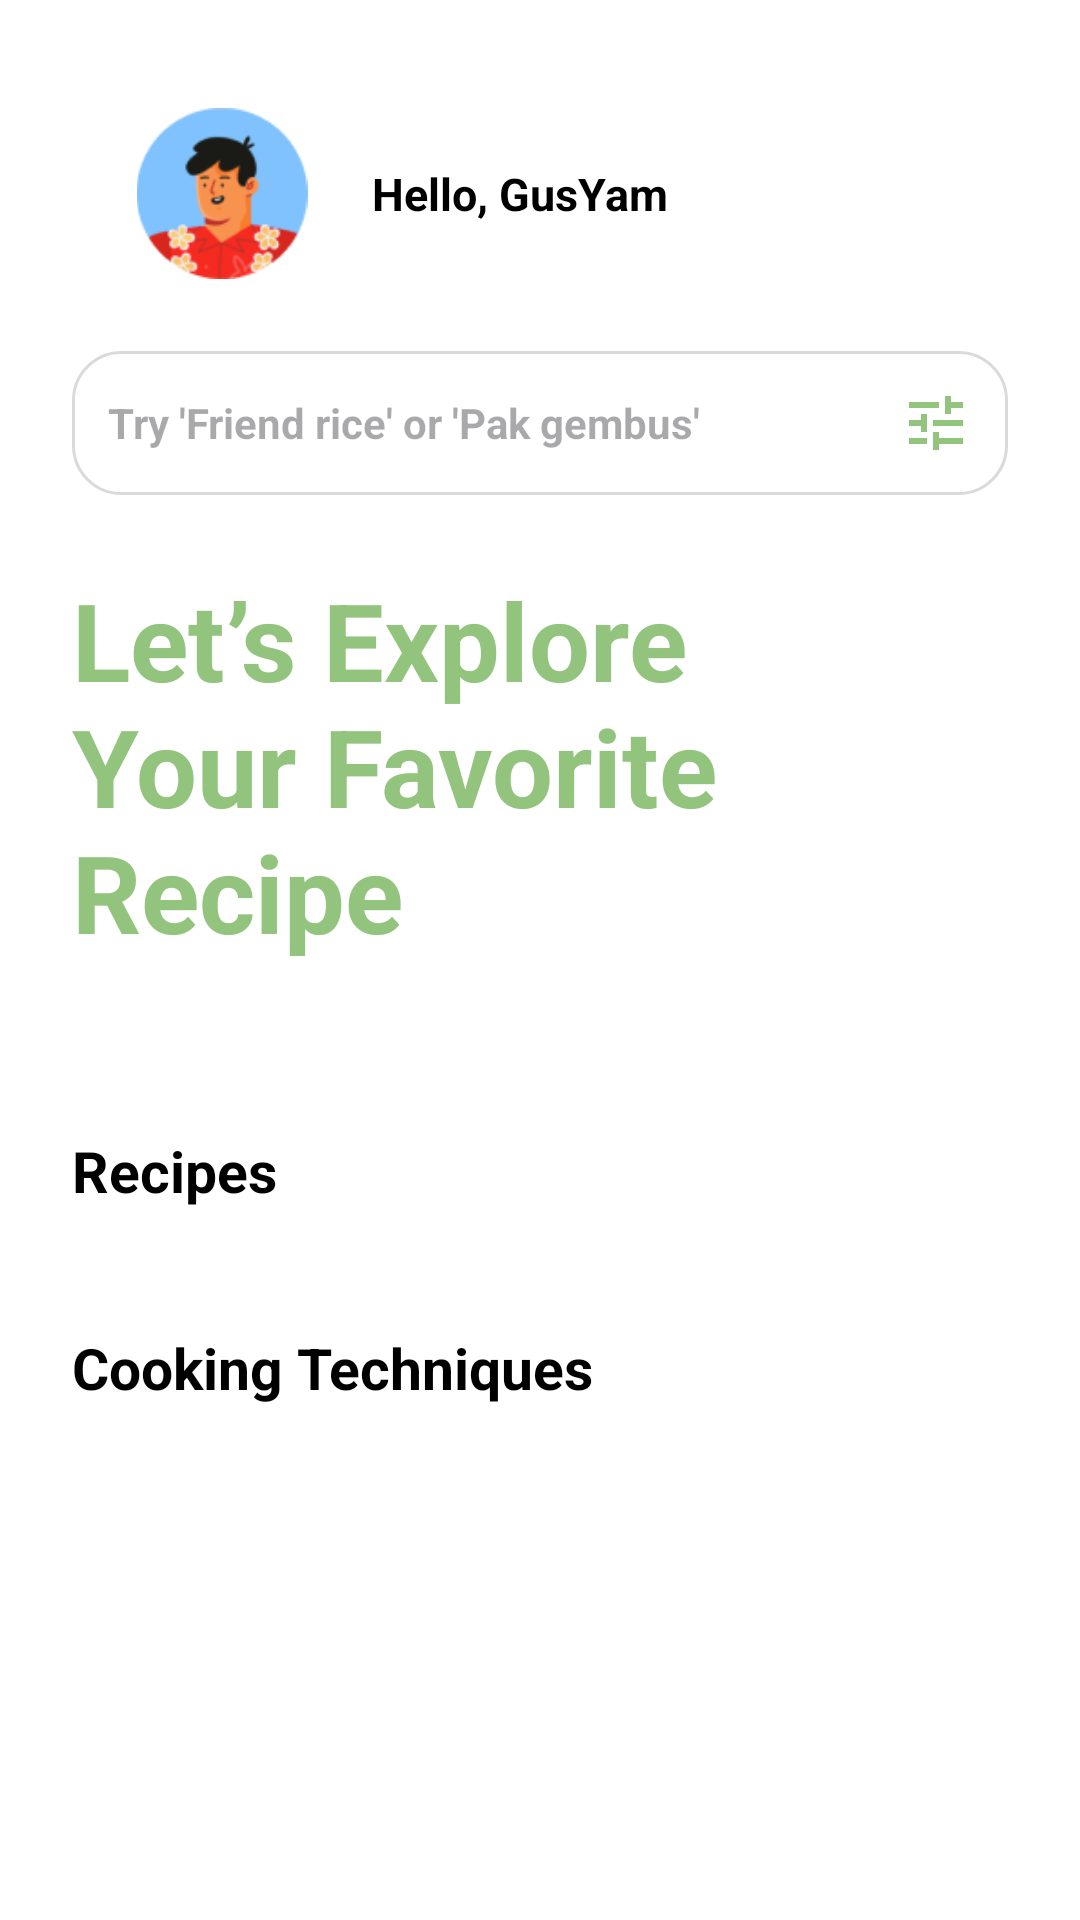

Screen size 1080×1920. Icon name, then its box in pixels as [x1, y1, x2, y2]:
Filter: [909, 396, 963, 450]
profile temporary: [137, 108, 308, 279]
